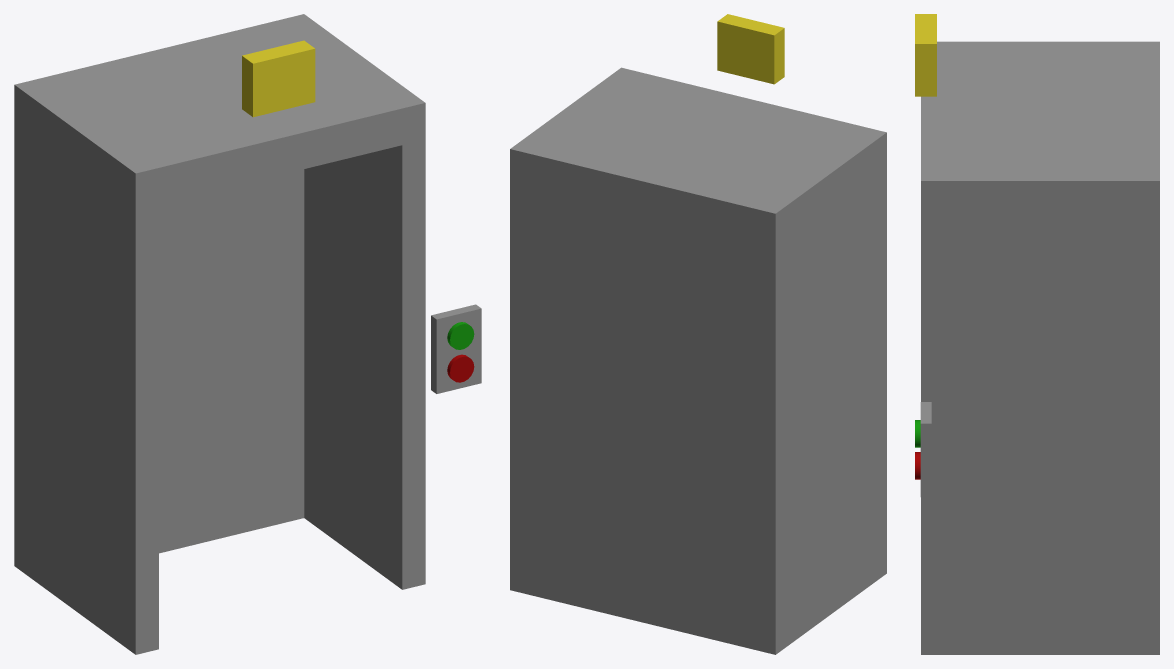
The model's file is lift interior textured.FBX.
3 renders of one model, left to right at view 1: azimuth 30°, elevation 25°; view 2: azimuth 150°, elevation 25°; view 3: azimuth 270°, elevation 25°, orthographic. The views are drawn at different scales.
Visible parts, largest first — view 1: Box001, Box003, Box002; view 2: Box001, Box003; view 3: Box001, Box003, Box002.
Part boxes in pixels (bbox=[...]): Box001: bbox=[14, 14, 425, 654]; Box003: bbox=[242, 40, 315, 117]; Box002: bbox=[431, 304, 481, 393]; Box001: bbox=[510, 67, 886, 654]; Box003: bbox=[717, 14, 784, 84]; Box001: bbox=[921, 41, 1159, 654]; Box003: bbox=[915, 14, 936, 96]; Box002: bbox=[920, 402, 931, 497].
Size of the model in its own units: 401 by 626 by 250.
